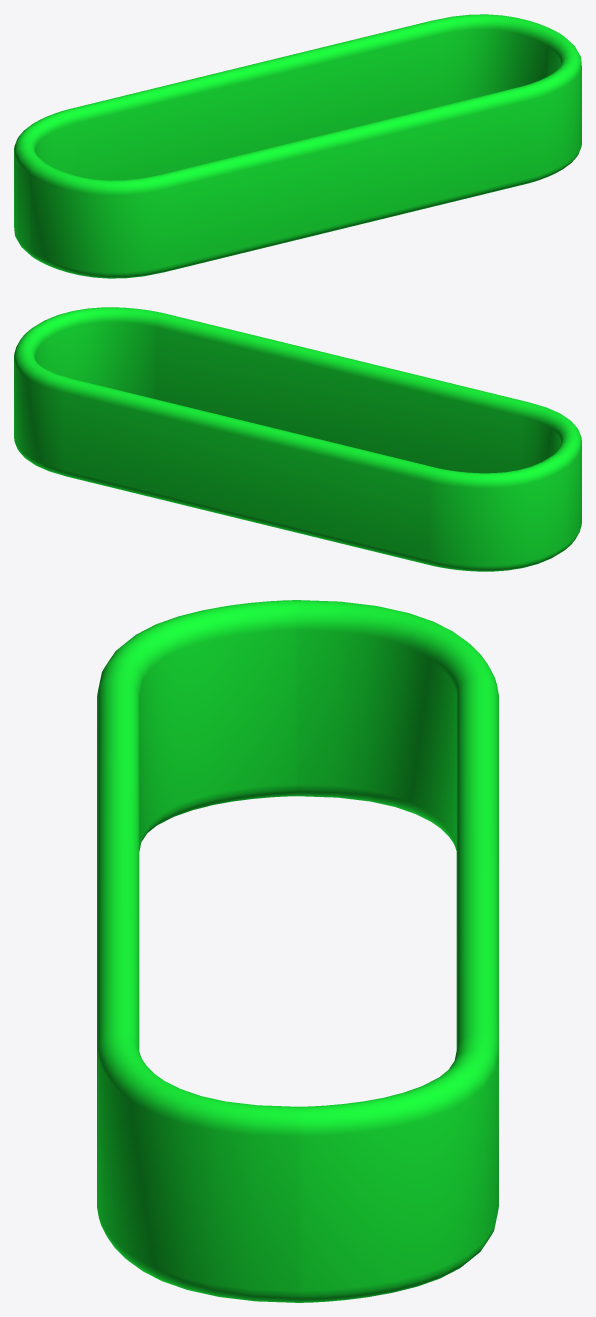
The model's file is Paddle-6.dae.
The picture shows the model from 3 angles, top to bottom: view 1: azimuth 30°, elevation 25°; view 2: azimuth 150°, elevation 25°; view 3: azimuth 270°, elevation 25°; orthographic projection. The views are drawn at different scales.
Visible parts, largest first — view 1: Paddle; view 2: Paddle; view 3: Paddle.
Part boxes in pixels (bbox=[...]): Paddle: bbox=[14, 14, 581, 278]; Paddle: bbox=[14, 307, 581, 571]; Paddle: bbox=[97, 600, 498, 1302].
Bounding box in the file's own units: 0.2922 × 0.05 × 0.0946.
